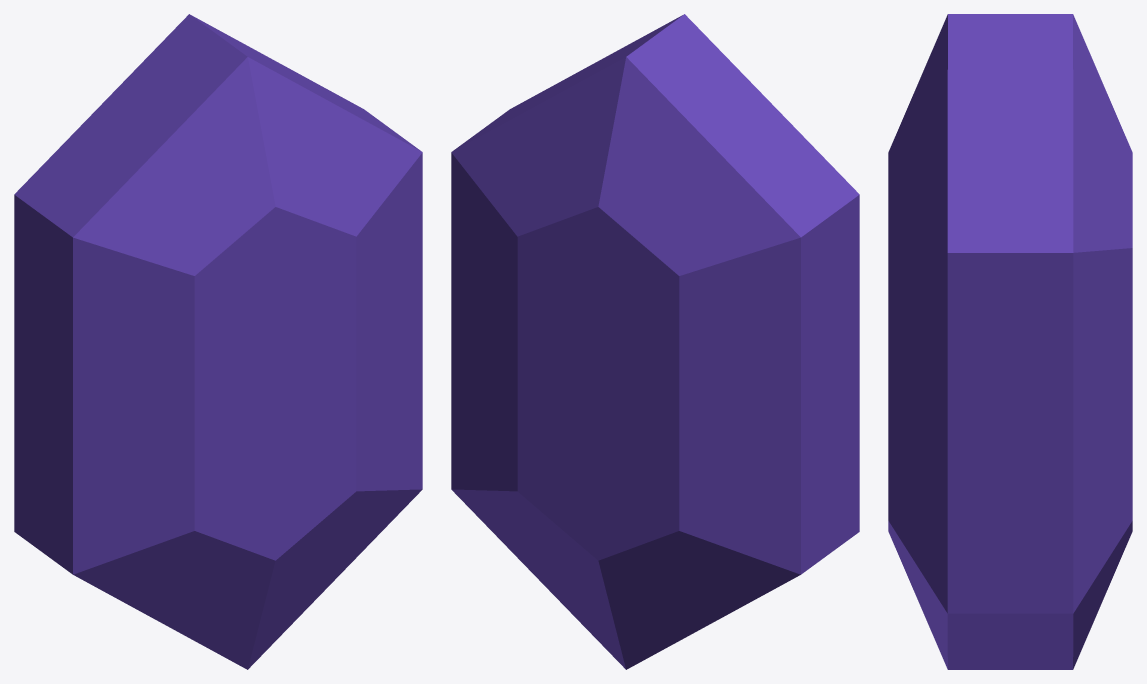
File: Gem_2-2.fbx
3 renders of one model, left to right at view 1: azimuth 30°, elevation 25°; view 2: azimuth 150°, elevation 25°; view 3: azimuth 270°, elevation 25°, orthographic. The views are drawn at different scales.
Parts seen in each view (by area): view 1: Gem_2-2; view 2: Gem_2-2; view 3: Gem_2-2.
Part boxes in pixels (x1,y1,x2,y2): Gem_2-2: (14,14,422,669); Gem_2-2: (451,14,859,669); Gem_2-2: (888,14,1132,669).
Bounding box in the file's own units: 45.15 × 75.64 × 25.54.
